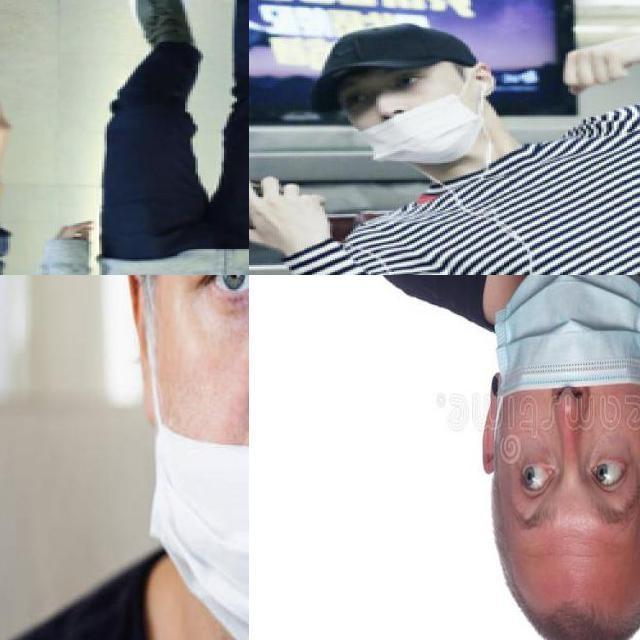hairnet: (495, 293, 639, 430), (359, 91, 473, 162)
